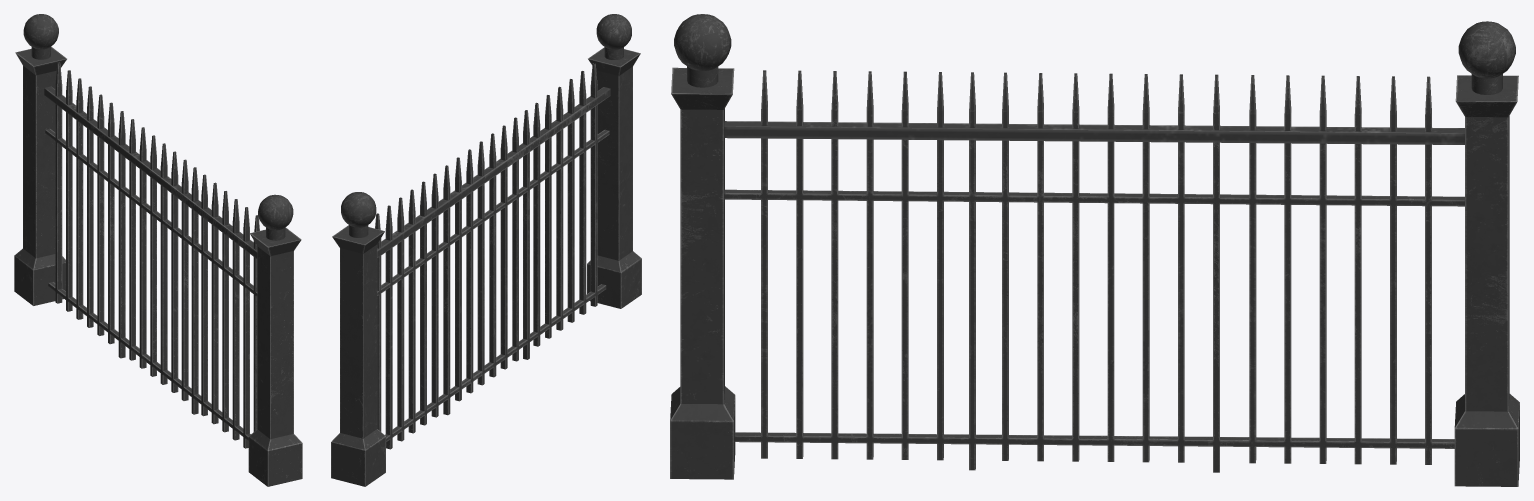
3 views of the same model, side by side, from view 1: azimuth 30°, elevation 25°; view 2: azimuth 150°, elevation 25°; view 3: azimuth 270°, elevation 25° (orthographic). The views are drawn at different scales.
Parts seen in each view (by area): view 1: Railing_Low; view 2: Railing_Low; view 3: Railing_Low.
Boxes of the visible parts, x1,y1,x2,y2 form: Railing_Low: (14,14,302,486); Railing_Low: (331,14,641,486); Railing_Low: (670,14,1519,486).
Size of the model in its own units: 1.18 by 7.05 by 12.08.
1 material, 1 textured.
